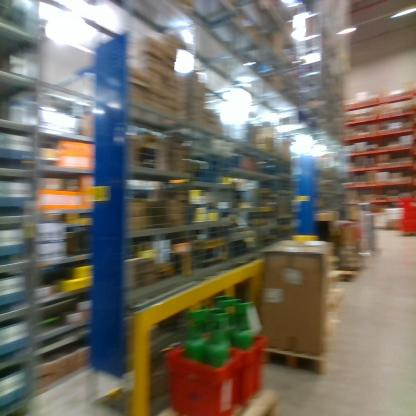pallet: (251, 319, 346, 390), (157, 380, 281, 415), (338, 263, 368, 284)
small_load_carrier: (155, 330, 242, 414), (222, 323, 274, 407)
